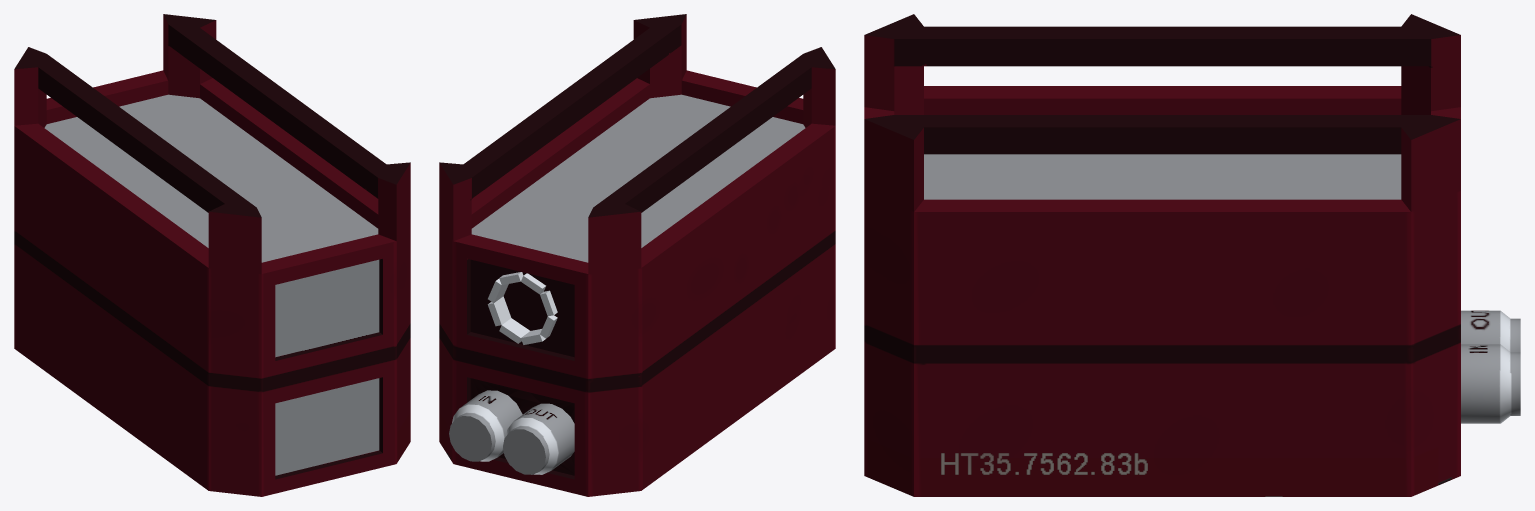
Rendered from SSCPowerPack1.fbx.
3 views of the same model, side by side, from view 1: azimuth 30°, elevation 25°; view 2: azimuth 150°, elevation 25°; view 3: azimuth 270°, elevation 25° (orthographic). The views are drawn at different scales.
Parts seen in each view (by area): view 1: SSCPowerPack1; view 2: SSCPowerPack1; view 3: SSCPowerPack1.
Part boxes in pixels (x1=…): SSCPowerPack1: x1=14, y1=14, x2=410, y2=496; SSCPowerPack1: x1=439, y1=14, x2=835, y2=496; SSCPowerPack1: x1=864, y1=14, x2=1520, y2=496.
Bounding box in the file's own units: 60 × 79.21 × 132.
